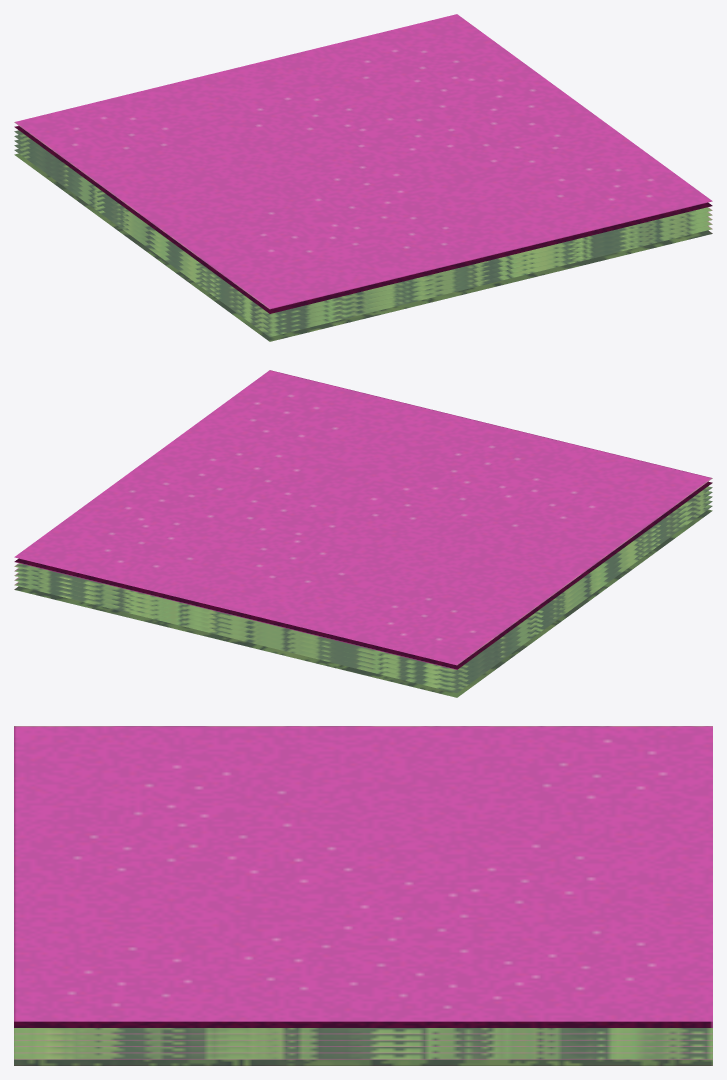
The model's file is akkerdistel.fbx.
3 views of the same model, one above another, from view 1: azimuth 30°, elevation 25°; view 2: azimuth 150°, elevation 25°; view 3: azimuth 270°, elevation 25° (orthographic). The views are drawn at different scales.
Visible parts, largest first — view 1: akkerdistel; view 2: akkerdistel; view 3: akkerdistel.
Part boxes in pixels (<box>): akkerdistel: <box>14,14,712,341</box>; akkerdistel: <box>14,370,712,697</box>; akkerdistel: <box>14,726,712,1065</box>.
Bounding box in the file's own units: 480 × 33.6 × 480.
1 material, 1 textured.
